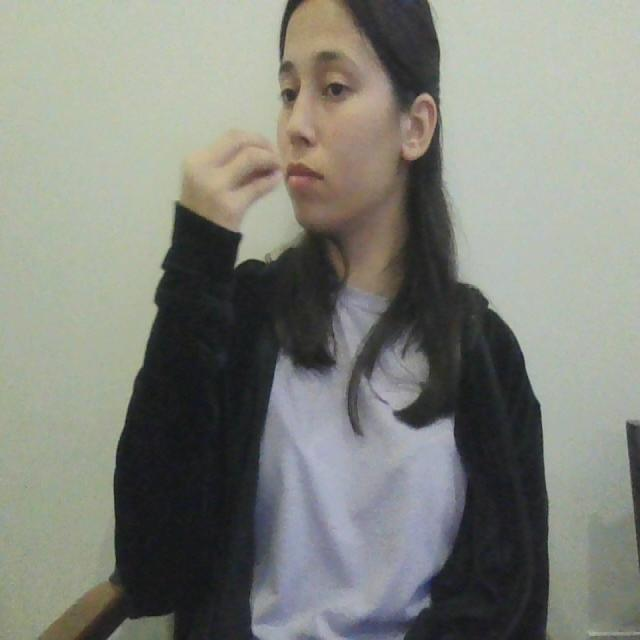Yemek: (176, 124, 335, 211)
